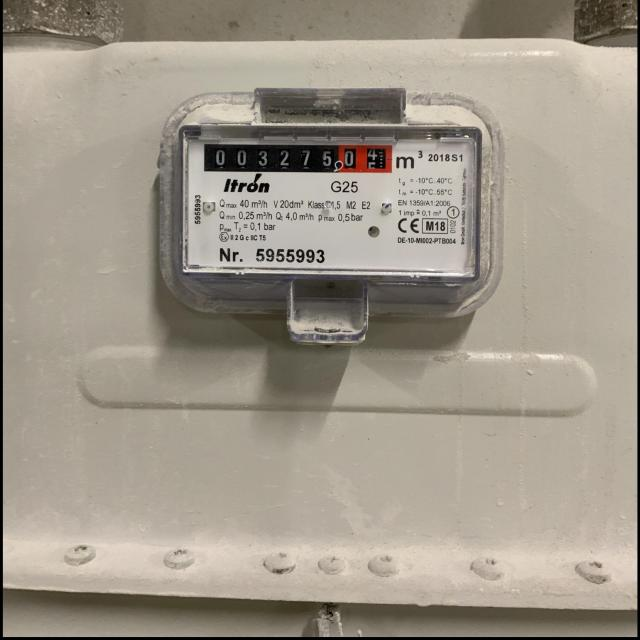gaz_meter: (178, 120, 480, 277)
indication: (204, 143, 397, 178)
